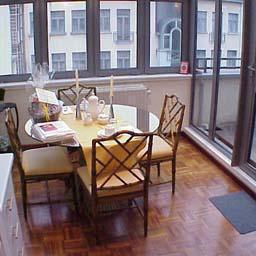Ventana: (191, 3, 238, 160), (94, 2, 190, 73), (2, 3, 92, 75)
